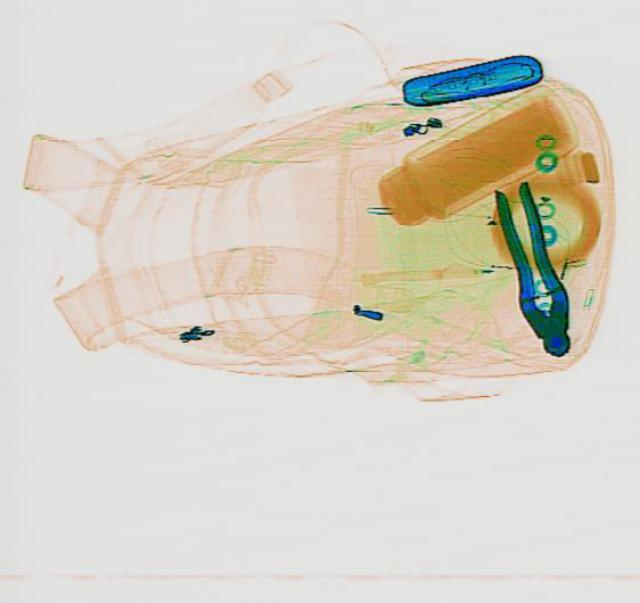Pliers: (481, 178, 583, 359)
